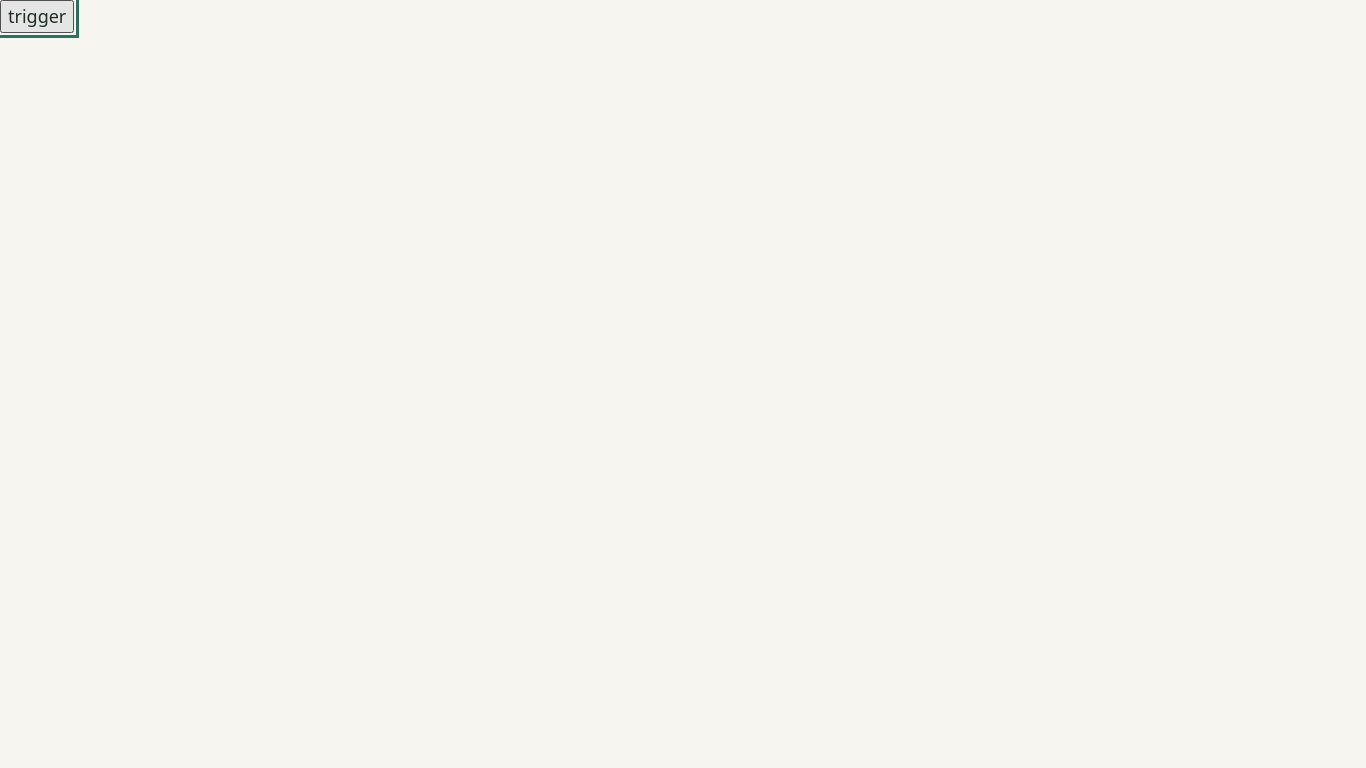
Test: Dialog › Esc ile kapanır
Click the button "trigger".
click(37, 16)  # box x1=0 y1=0 x2=74 y2=33
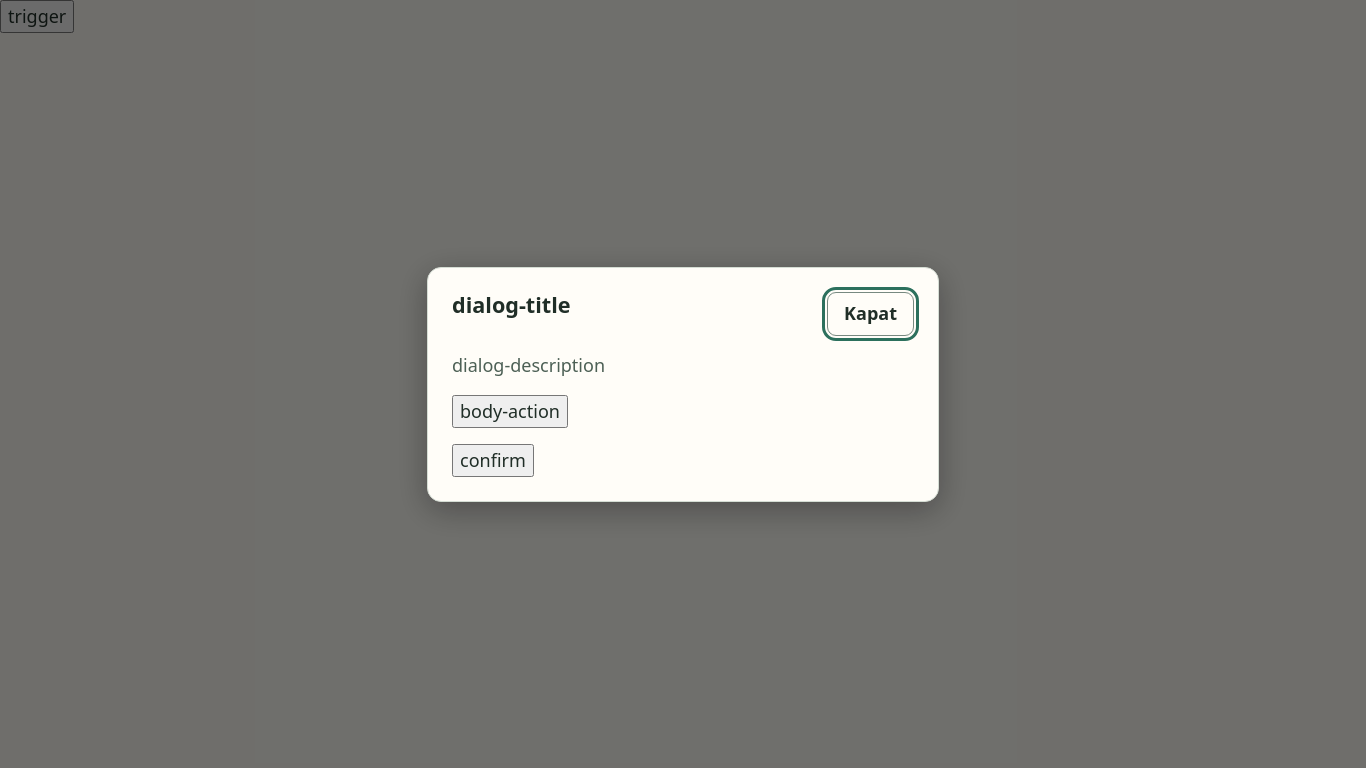
Press Escape
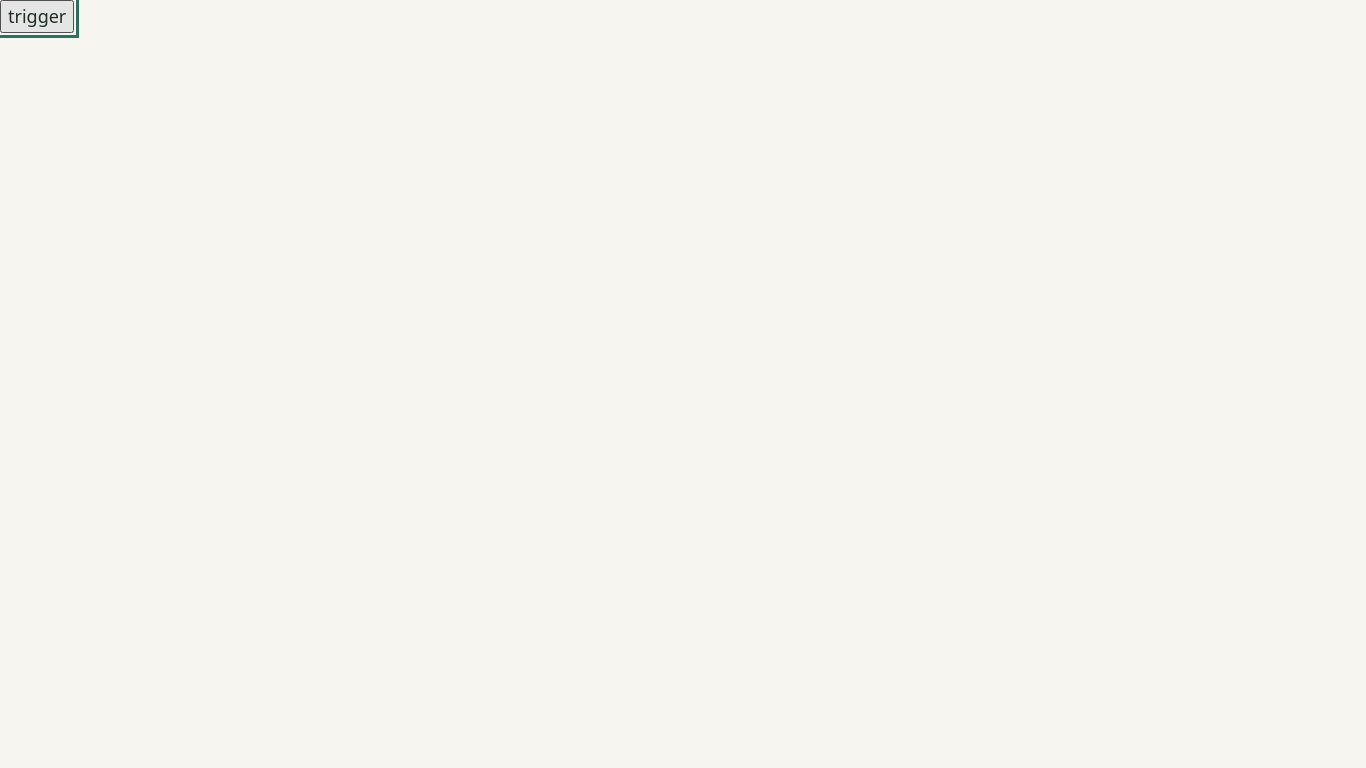
expect the dialog is gone: met
